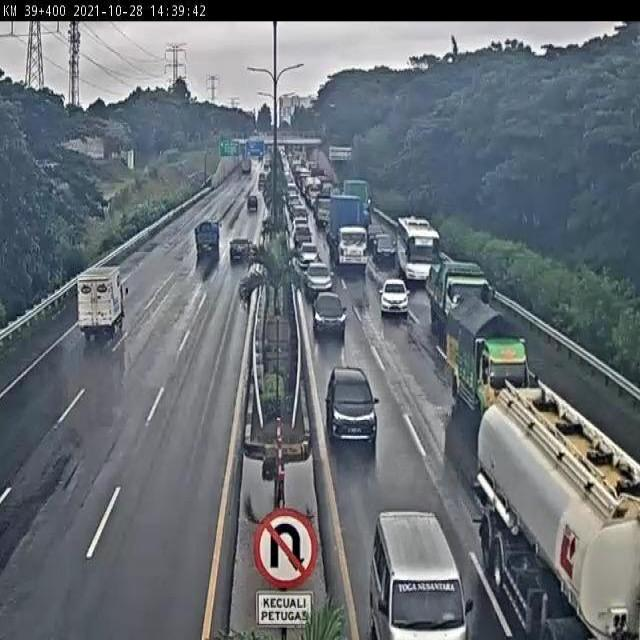big bus: (398, 219, 438, 284)
big truck: (468, 373, 640, 640), (328, 191, 367, 268)
car: (371, 512, 475, 640), (324, 366, 382, 446), (309, 290, 348, 338), (304, 260, 332, 299), (378, 279, 410, 313), (225, 236, 252, 263), (371, 229, 394, 259), (297, 236, 320, 263), (242, 197, 259, 219)
mid truck: (427, 262, 488, 330)
small truck: (73, 265, 127, 343), (195, 219, 220, 257)
truck-m-: (447, 299, 533, 417)
